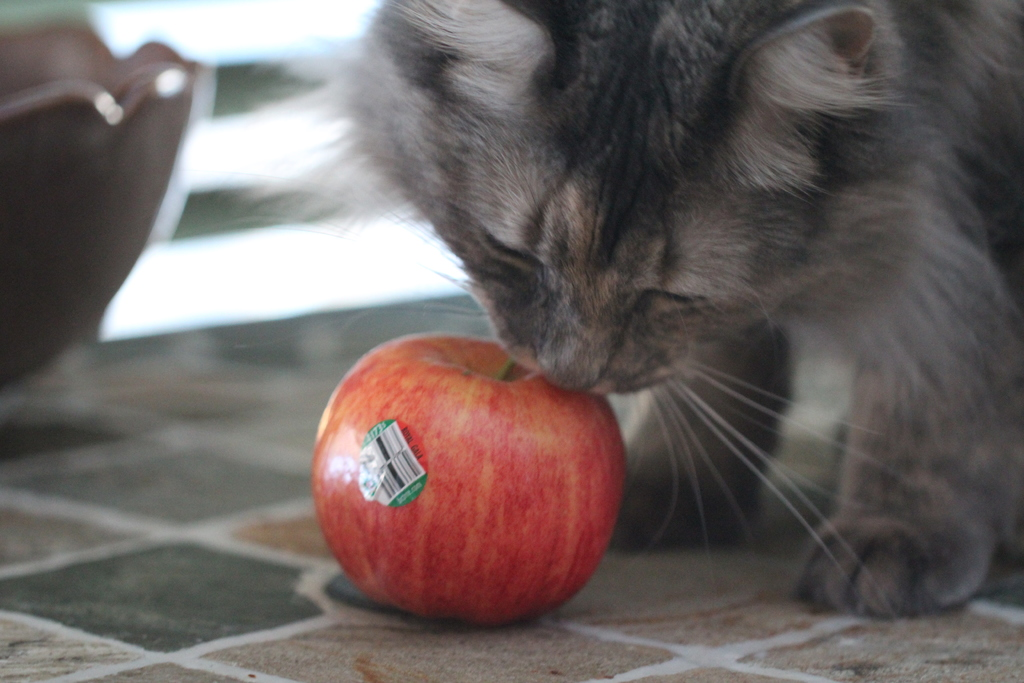Apple: (321, 314, 632, 637)
